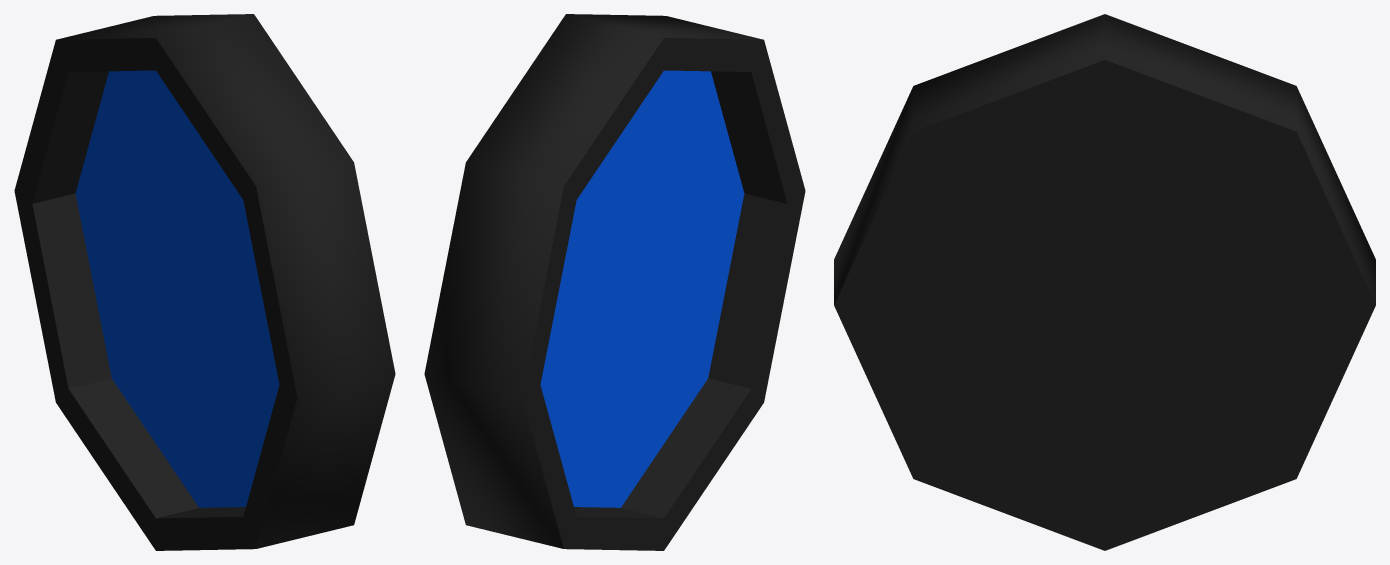
The model's file is NetworkHyperCam.fbx.
3 renders of one model, left to right at view 1: azimuth 30°, elevation 25°; view 2: azimuth 150°, elevation 25°; view 3: azimuth 270°, elevation 25°, orthographic. The views are drawn at different scales.
Parts seen in each view (by area): view 1: NetworkHyperCam; view 2: NetworkHyperCam; view 3: NetworkHyperCam.
Boxes of the visible parts, x1,y1,x2,y2 form: NetworkHyperCam: [14, 14, 395, 550]; NetworkHyperCam: [424, 14, 805, 550]; NetworkHyperCam: [834, 14, 1375, 550].
Size of the model in its own units: 9.86 by 49.28 by 49.28.
